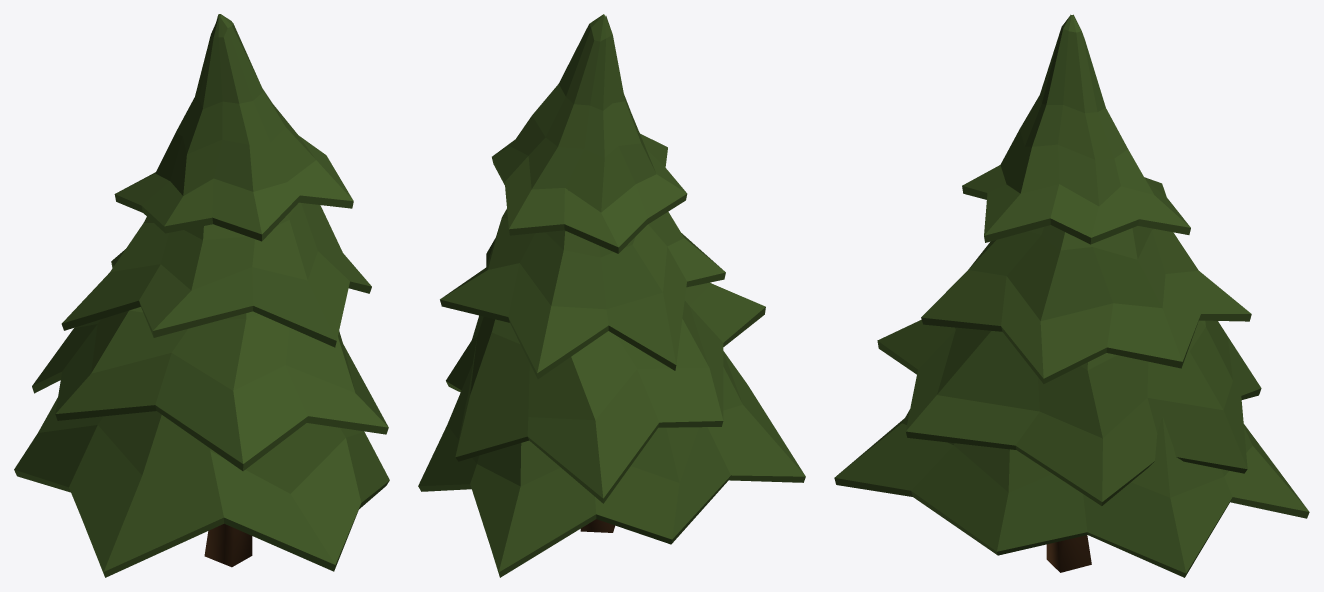
Rendered from Tree5.fbx.
The picture shows the model from 3 angles, left to right: view 1: azimuth 30°, elevation 25°; view 2: azimuth 150°, elevation 25°; view 3: azimuth 270°, elevation 25°; orthographic projection. The views are drawn at different scales.
Parts seen in each view (by area): view 1: Tree8; view 2: Tree8; view 3: Tree8.
Part boxes in pixels (x1,y1,x2,y2): Tree8: (14, 14, 389, 577); Tree8: (418, 14, 805, 577); Tree8: (834, 14, 1309, 577).
Size of the model in its own units: 1399 by 2298 by 1815.
